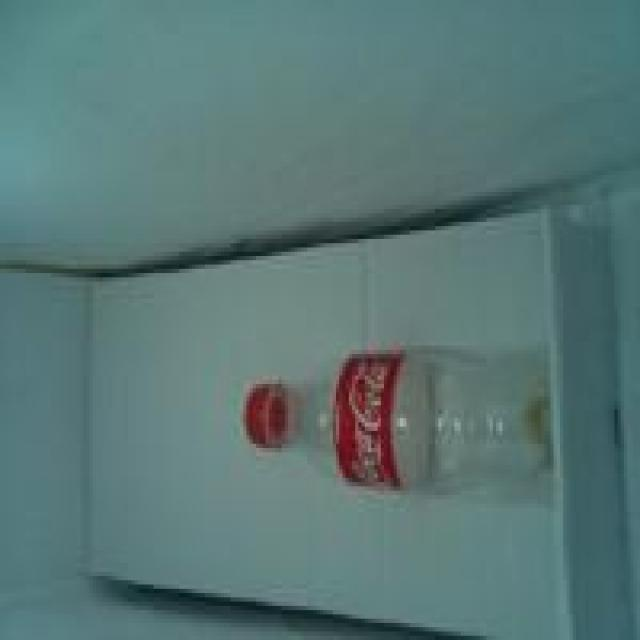bottle: (225, 333, 584, 517)
